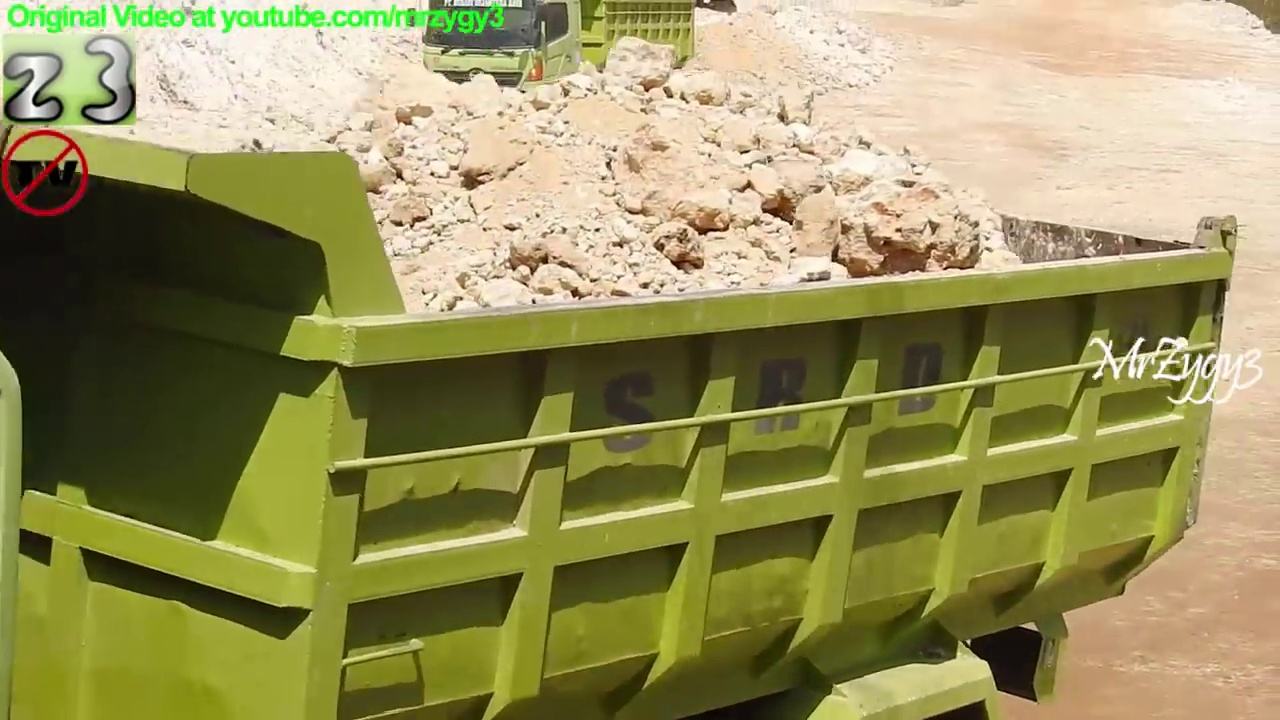truck: (1, 111, 1248, 720), (416, 1, 700, 116)
